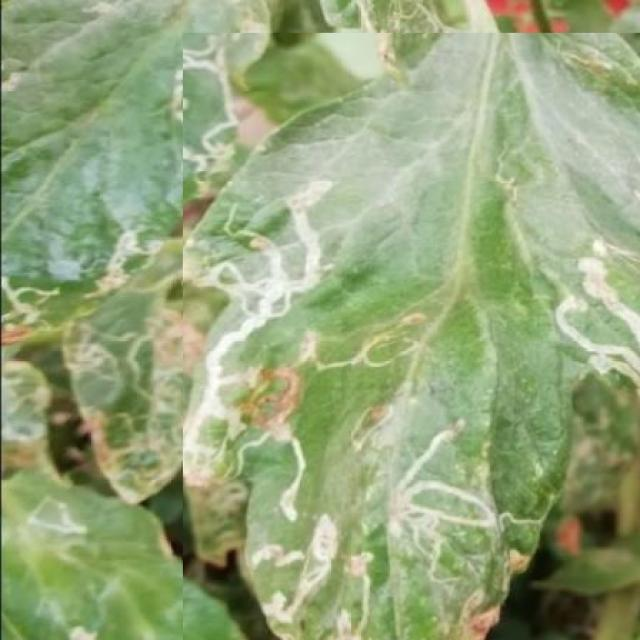Leaf Miner: (183, 33, 640, 640)
